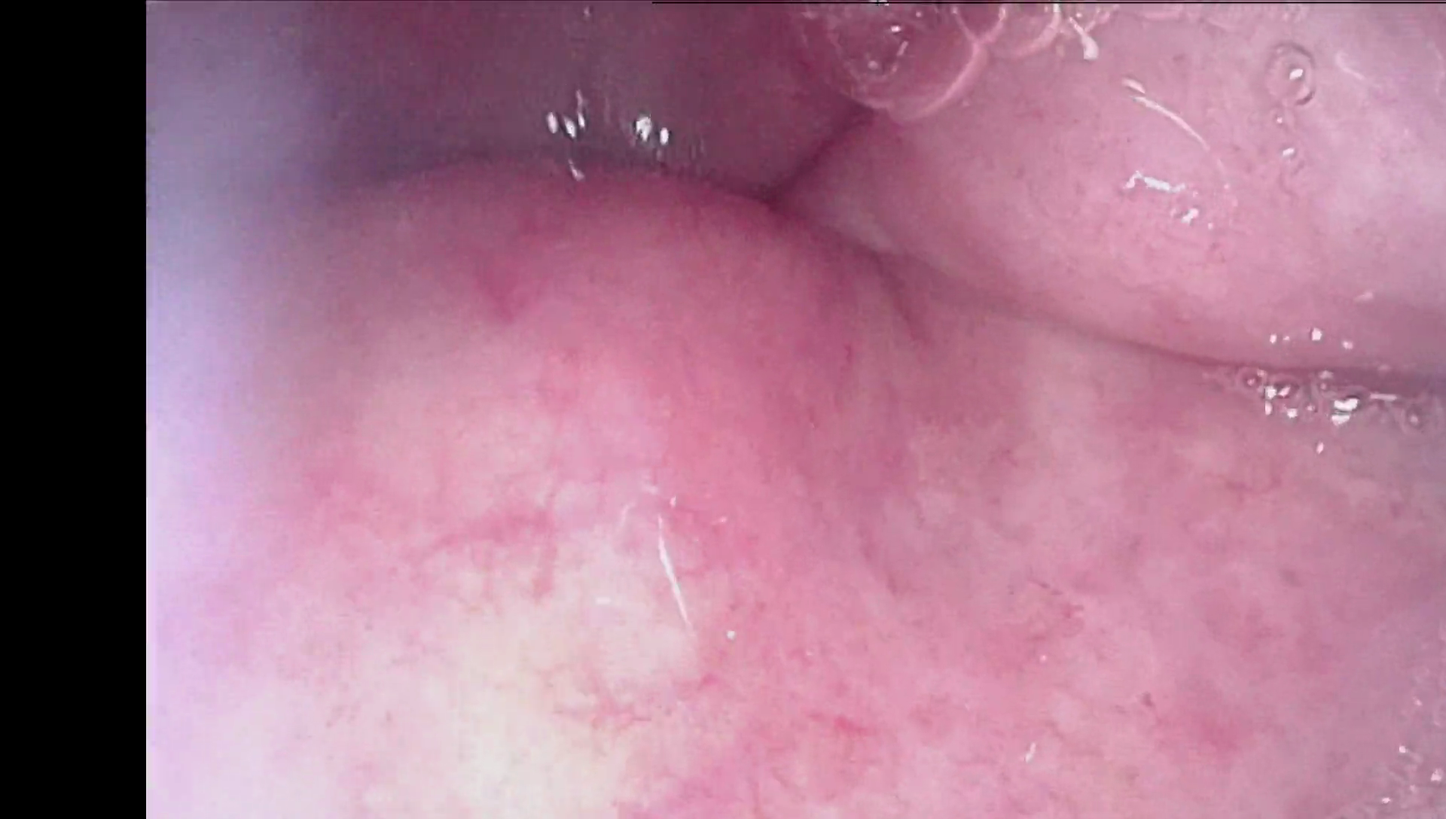close_wall: (194, 337, 1129, 819)
